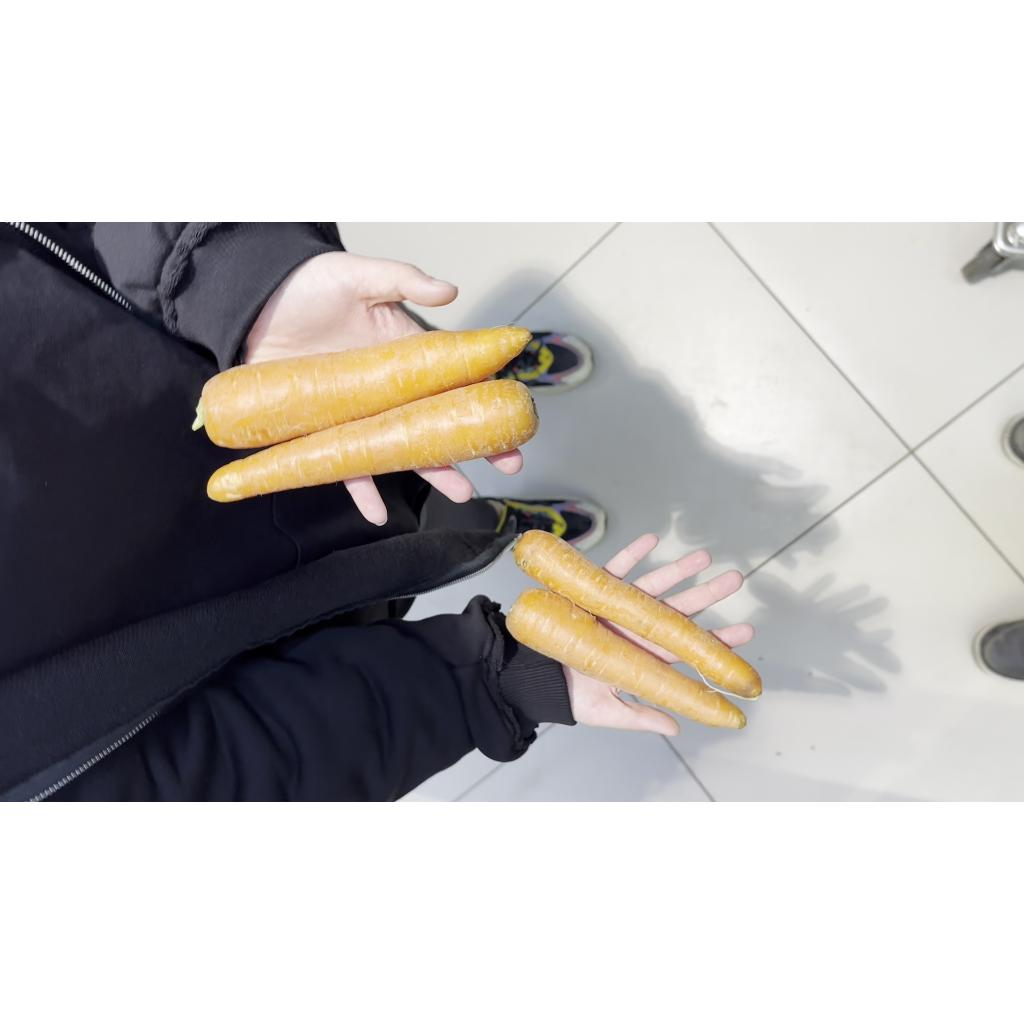carrot: (514, 530, 762, 698), (198, 326, 530, 448), (208, 380, 538, 502), (506, 588, 746, 728)
